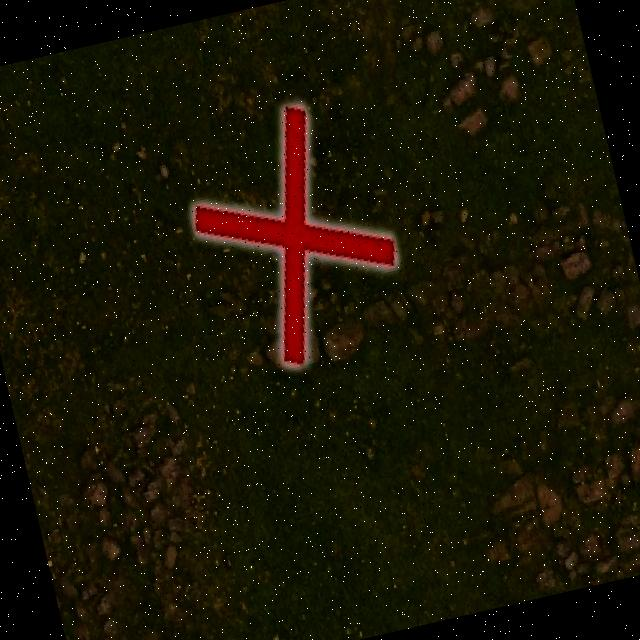x_marker: (173, 91, 413, 378)
